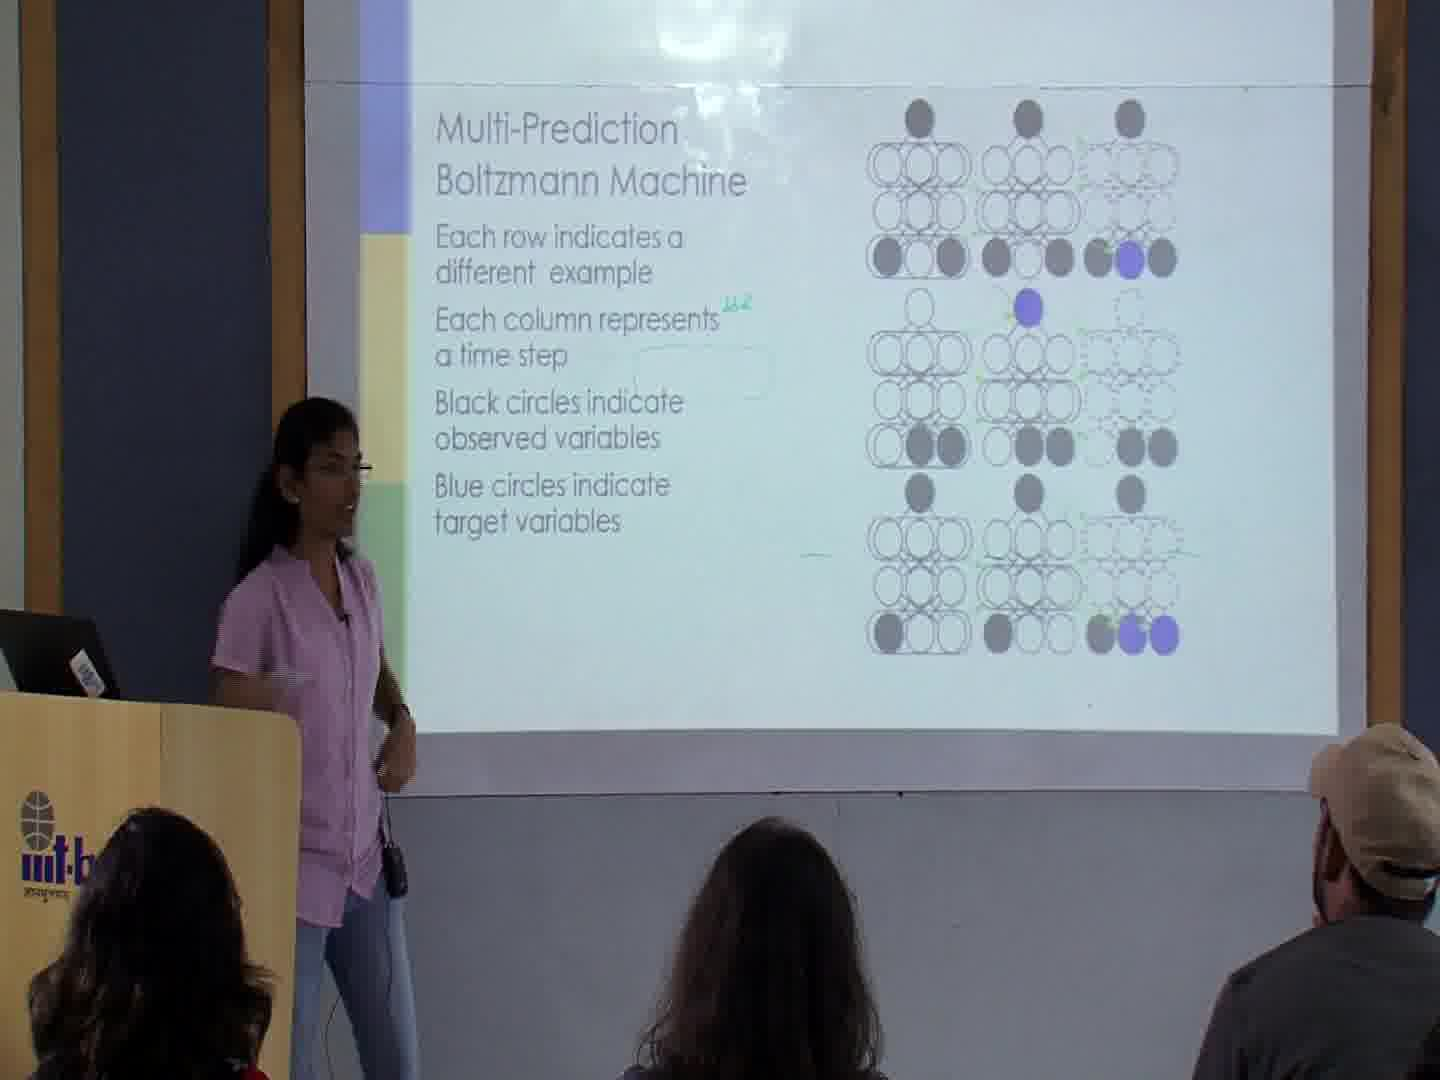slide: (357, 2, 1336, 732)
